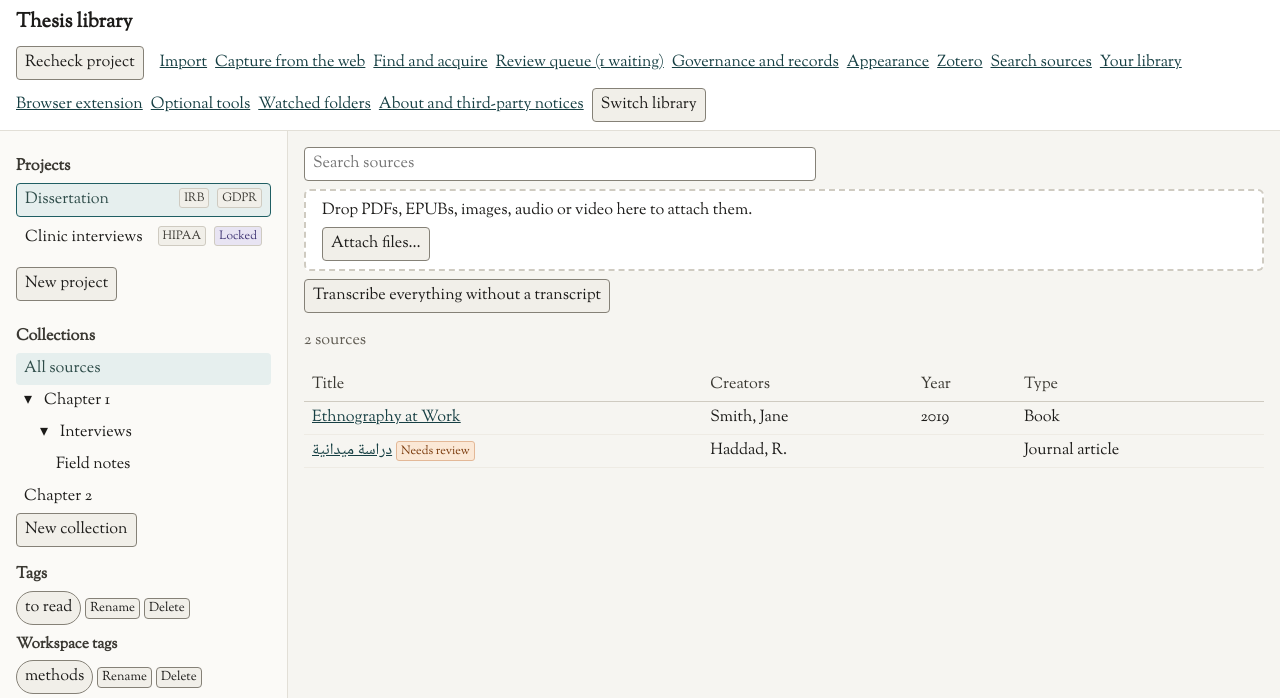
Test: the optional tools in the app › is reachable from the settings links in the library's header
What coordinates should you click on to do the following:
click the link "Optional tools"
I would click on:
 (201, 105)
Its box is [151,93,250,117].
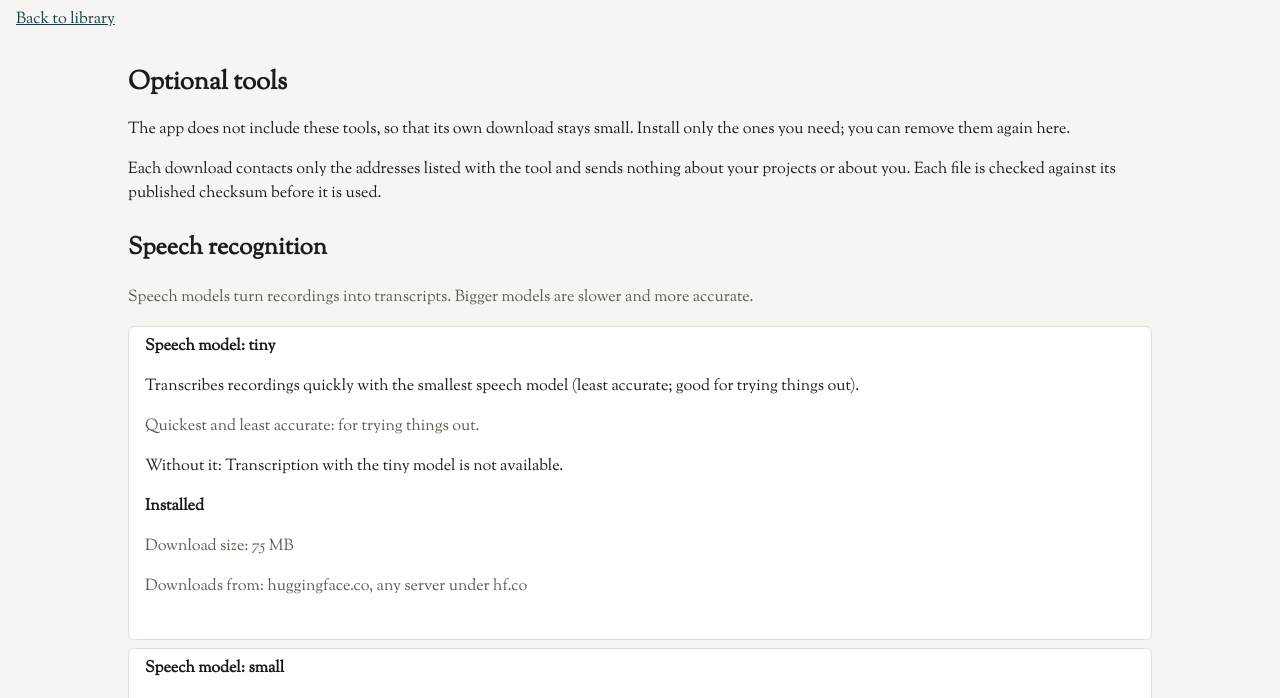
Expected: the heading "Optional tools" is shown, [128,64,287,101]
